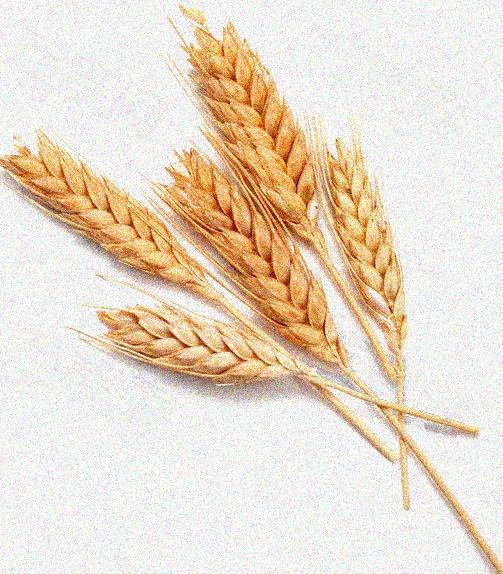wheat: (176, 12, 361, 315), (4, 125, 254, 325), (181, 158, 369, 391), (304, 126, 425, 390), (43, 290, 326, 382)
